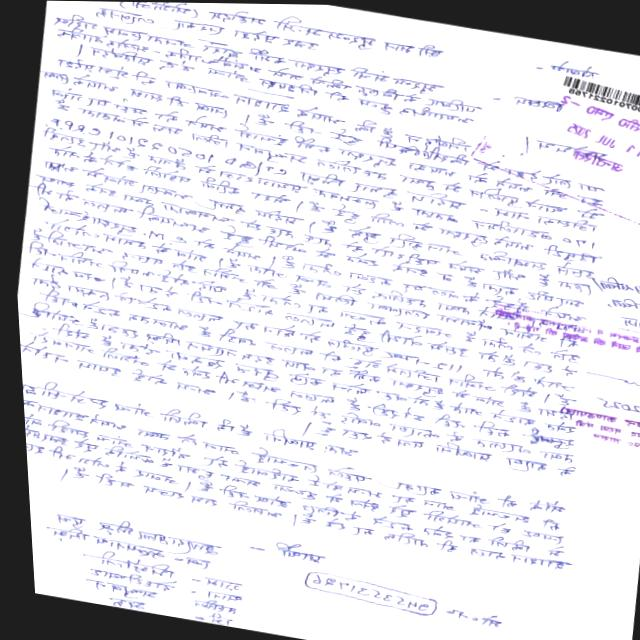antritgovtstamp: (513, 85, 640, 190)
barcode: (551, 70, 640, 121)
pinkstamp: (486, 303, 640, 364)
signnamestamp: (548, 364, 640, 457)
